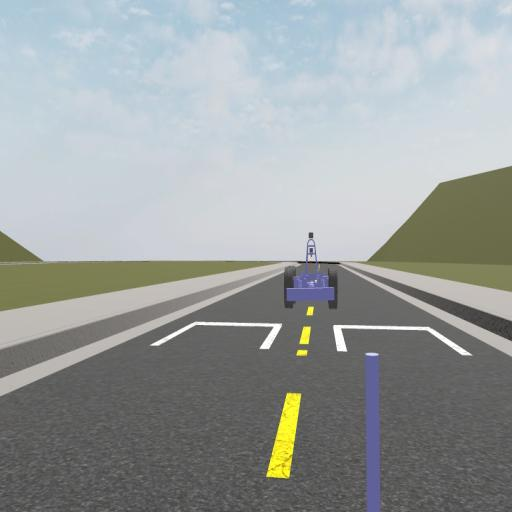ERP-42: (284, 231, 338, 309)
